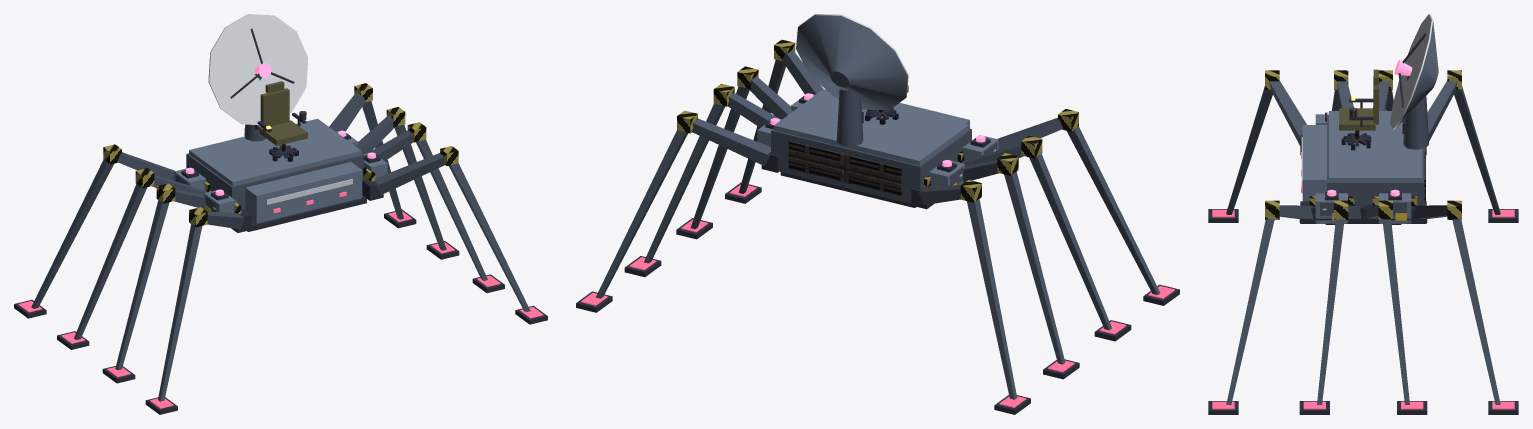
Rendered from hushmaster.glb.
3 views of the same model, side by side, from view 1: azimuth 30°, elevation 25°; view 2: azimuth 150°, elevation 25°; view 3: azimuth 270°, elevation 25° (orthographic). The views are drawn at different scales.
Parts seen in each view (by area): view 1: hull, dish, seat, leg_fr_1_lower, leg_fr_2_lower, leg_br_2_lower, leg_br_1_lower, leg_fl_1_lower, leg_fl_1, leg_fl_2_lower, leg_bl_2_lower, leg_fr_1 (+8 smaller); view 2: hull, dish, leg_br_1_lower, leg_br_2_lower, leg_fr_2_lower, leg_fr_1_lower, leg_bl_1_lower, leg_bl_1, leg_bl_2_lower, leg_fl_2_lower, dish_base, leg_br_1 (+8 smaller); view 3: hull, dish, leg_fl_1_lower, leg_bl_1_lower, leg_fl_2_lower, leg_bl_2_lower, seat, leg_fr_1_lower, leg_br_1_lower, leg_fr_1, dish_base, leg_br_1 (+8 smaller).
Part boxes in pixels (left/top/right/bottom): hull: left=186, top=118, right=375, bottom=231; dish: left=208, top=14, right=308, bottom=125; seat: left=257, top=81, right=307, bottom=161; leg_fr_1_lower: left=145, top=224, right=202, bottom=414; leg_fr_2_lower: left=102, top=199, right=169, bottom=383; leg_br_2_lower: left=57, top=183, right=147, bottom=349; leg_br_1_lower: left=14, top=159, right=113, bottom=318; leg_fl_1_lower: left=449, top=163, right=547, bottom=324; leg_fl_1: left=362, top=146, right=458, bottom=200; leg_fl_2_lower: left=416, top=140, right=504, bottom=293; leg_bl_2_lower: left=394, top=124, right=459, bottom=259; leg_fr_1: left=189, top=207, right=251, bottom=232; hull: left=771, top=89, right=971, bottom=207; dish: left=796, top=14, right=908, bottom=110; leg_br_1_lower: left=967, top=198, right=1030, bottom=414; leg_br_2_lower: left=1004, top=171, right=1079, bottom=379; leg_fr_2_lower: left=1029, top=153, right=1131, bottom=341; leg_fr_1_lower: left=1066, top=126, right=1179, bottom=305; leg_bl_1_lower: left=576, top=130, right=688, bottom=312; leg_bl_1: left=677, top=110, right=778, bottom=172; leg_bl_2_lower: left=624, top=103, right=725, bottom=277; leg_fl_2_lower: left=676, top=86, right=749, bottom=239; dish_base: left=836, top=89, right=863, bottom=146; leg_br_1: left=911, top=180, right=981, bottom=209; hull: left=1301, top=111, right=1425, bottom=223; dish: left=1390, top=14, right=1438, bottom=129; leg_fl_1_lower: left=1208, top=219, right=1274, bottom=414; leg_bl_1_lower: left=1452, top=219, right=1518, bottom=414; leg_fl_2_lower: left=1299, top=219, right=1344, bottom=414; leg_bl_2_lower: left=1382, top=219, right=1427, bottom=414; seat: left=1339, top=69, right=1378, bottom=150; leg_fr_1_lower: left=1208, top=86, right=1272, bottom=222; leg_br_1_lower: left=1454, top=86, right=1518, bottom=222; leg_fr_1: left=1265, top=70, right=1306, bottom=155; dish_base: left=1401, top=76, right=1428, bottom=149; leg_br_1: left=1426, top=70, right=1461, bottom=155.
Bounding box in the file's own units: 11.75 × 8.04 × 7.65.
Materials: 13 (3 with a texture image).
